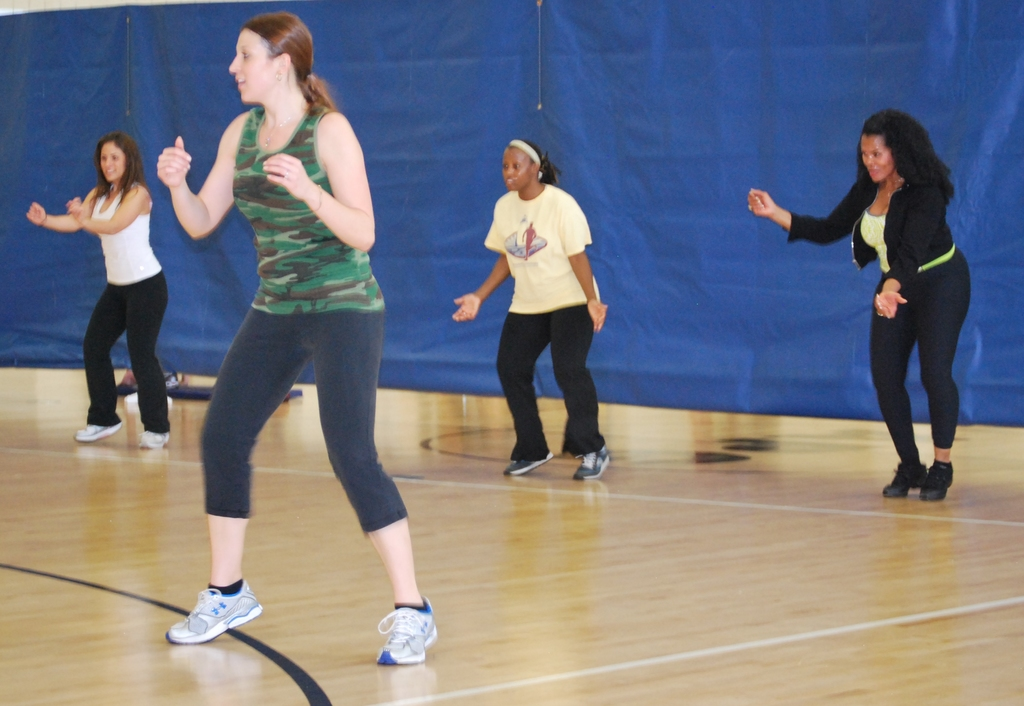Person: (156, 10, 439, 665), (746, 107, 972, 498), (452, 139, 610, 482), (25, 131, 167, 449)
